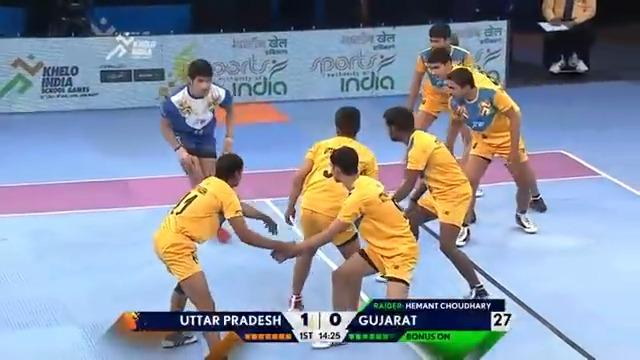Player: (150, 151, 297, 354), (418, 220, 596, 358), (377, 105, 490, 300), (444, 64, 547, 246), (293, 106, 365, 306), (404, 22, 476, 200), (157, 56, 236, 187)
Raider: (158, 57, 278, 239)
referee: (539, 0, 597, 74)
